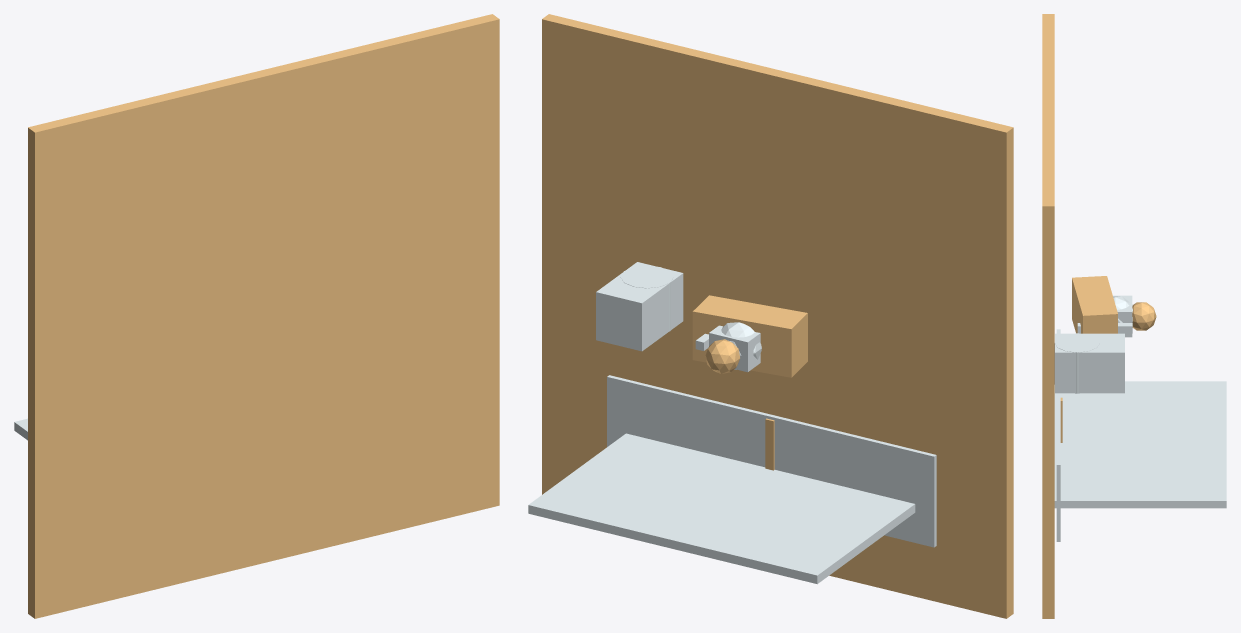
File: soccer-penalty-pro-kit.glb
The picture shows the model from 3 angles, left to right: view 1: azimuth 30°, elevation 25°; view 2: azimuth 150°, elevation 25°; view 3: azimuth 270°, elevation 25°; orthographic projection. The views are drawn at different scales.
Parts seen in each view (by area): view 1: ENVIRONMENT_GROUND; view 2: ENVIRONMENT_GROUND, ENVIRONMENT_GATE, PROFILE_ENVIRONMENT_DETAIL, PLAYER_BODY, PROFILE_OBSTACLE_DETAIL, OBSTACLE, PROFILE_PLAYER_DETAIL, PROFILE_PLAYER_HEAD; view 3: ENVIRONMENT_GATE, ENVIRONMENT_GROUND, PROFILE_OBSTACLE_DETAIL, PLAYER_BODY, OBSTACLE, PROFILE_ENVIRONMENT_DETAIL, PROFILE_PLAYER_HEAD, PROFILE_PLAYER_DETAIL.
Part boxes in pixels (left/top/right/bottom): ENVIRONMENT_GROUND: left=28, top=14, right=499, bottom=618; ENVIRONMENT_GROUND: left=542, top=14, right=1013, bottom=618; ENVIRONMENT_GATE: left=528, top=433, right=915, bottom=584; PROFILE_ENVIRONMENT_DETAIL: left=607, top=375, right=936, bottom=547; PLAYER_BODY: left=692, top=295, right=807, bottom=377; PROFILE_OBSTACLE_DETAIL: left=596, top=262, right=683, bottom=351; OBSTACLE: left=620, top=265, right=673, bottom=331; PROFILE_PLAYER_DETAIL: left=709, top=325, right=760, bottom=372; PROFILE_PLAYER_HEAD: left=705, top=339, right=739, bottom=373; ENVIRONMENT_GATE: left=1054, top=381, right=1226, bottom=508; ENVIRONMENT_GROUND: left=1042, top=14, right=1054, bottom=618; PROFILE_OBSTACLE_DETAIL: left=1055, top=333, right=1124, bottom=393; PLAYER_BODY: left=1072, top=276, right=1117, bottom=333; OBSTACLE: left=1054, top=333, right=1099, bottom=393; PROFILE_ENVIRONMENT_DETAIL: left=1056, top=329, right=1060, bottom=541; PROFILE_PLAYER_HEAD: left=1132, top=302, right=1156, bottom=330; PROFILE_PLAYER_DETAIL: left=1113, top=295, right=1132, bottom=337.
Size of what is drawn, in the model's own units: 9 by 9 by 3.64.
